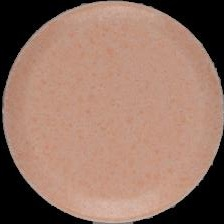63187-074: (0, 0, 224, 224)
